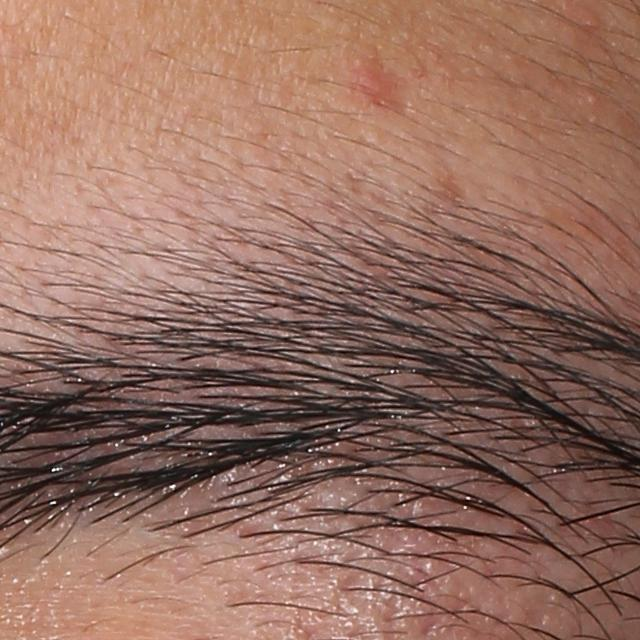comedo: (580, 86, 602, 110)
